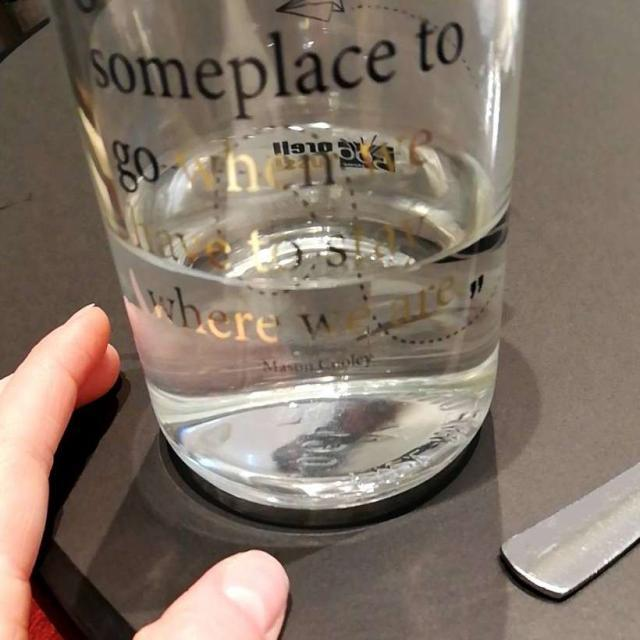water: (116, 126, 508, 497)
